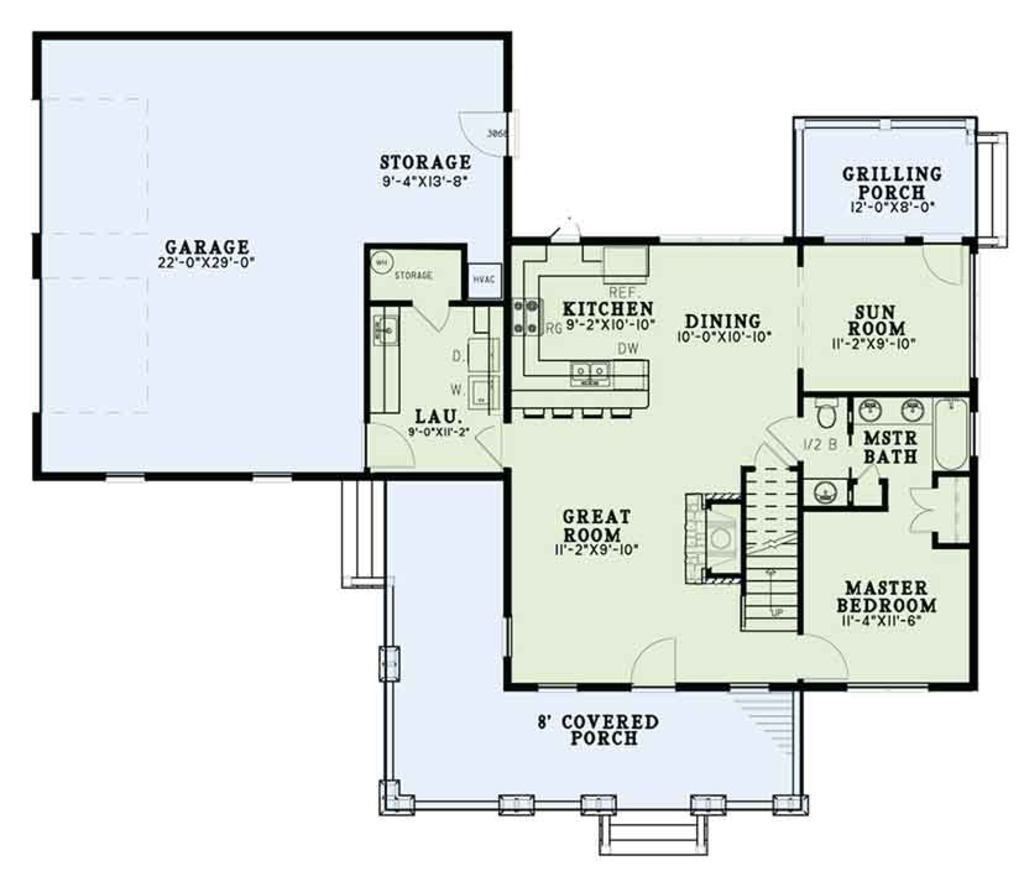door: (451, 98, 533, 169), (621, 629, 684, 696), (791, 624, 857, 680), (924, 233, 972, 295), (367, 420, 424, 463), (766, 410, 809, 465), (473, 422, 517, 467), (907, 483, 944, 532), (546, 217, 589, 252), (413, 296, 450, 336), (748, 441, 792, 469), (858, 454, 891, 484)
kitchen_bar: (507, 332, 652, 426)
large_sink: (815, 400, 843, 439)
small_sink: (847, 394, 935, 426), (802, 474, 848, 509)
stairs: (735, 462, 803, 636)
tub: (932, 396, 965, 476)
twin_sink: (561, 354, 617, 400)
window: (836, 673, 943, 698), (246, 461, 299, 488), (496, 606, 521, 662), (537, 676, 588, 700), (724, 677, 777, 698), (106, 466, 158, 485)
